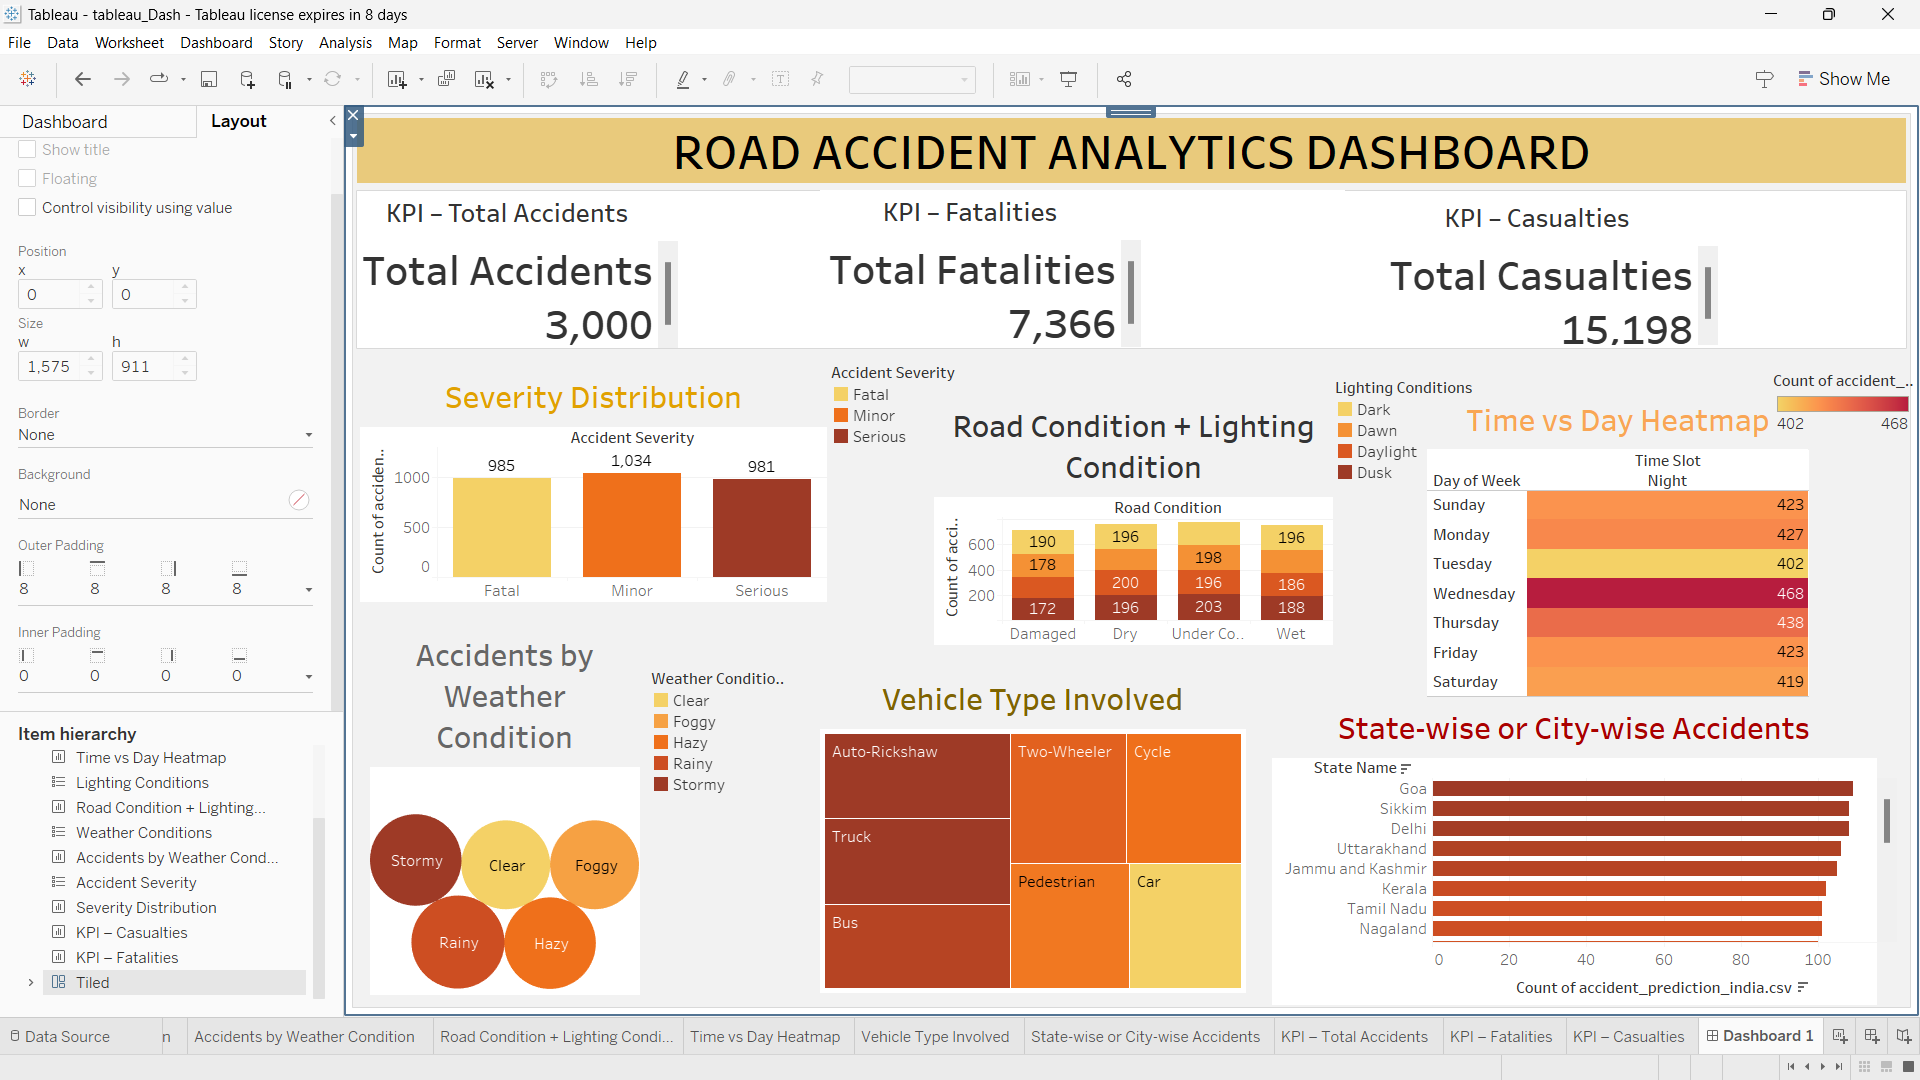

Layout of this report page (visuals, bound fields, positions):
{"tool":"tableau","page":{"name":"Dashboard 1","canvas":[1000,1000],"units":"permille","ordinal":0},"visuals":[{"type":"title","box":[5.7,9.9,988.6,80.1]},{"type":"worksheet","title":"KPI – Total Accidents","mark":"Text","box":[5.7,90,988.6,181.1]},{"type":"worksheet","title":"KPI – Fatalities","mark":"Automatic","box":[302.2,93.3,333.3,172.3]},{"type":"worksheet","title":"KPI – Casualties","mark":"Automatic","box":[655.9,99.9,333.3,163.6]},{"type":"legend","title":"Severity Distribution","param":"[federated.0otfhzh19rn5sc175olmn17yknsi].[none:Accident Severity:nk]","box":[309.2,282.1,88.9,93.3]},{"type":"legend","title":"Time vs Day Heatmap","param":"[federated.0otfhzh19rn5sc175olmn17yknsi].[__tableau_internal_object_id__].[cnt:a","box":[907.3,290.9,88.9,96.6]},{"type":"worksheet","title":"Severity Distribution","mark":"Automatic","rows":["accident_prediction_india.csv_D0539430751245F891A3C85DFFFD13"],"cols":["Accident Severity"],"box":[10.2,292,296.5,253.6]},{"type":"legend","title":"Road Condition + Lighting Condition","param":"[federated.0otfhzh19rn5sc175olmn17yknsi].[none:Lighting Conditions:nk]","box":[629.2,298.6,88.9,116.4]},{"type":"worksheet","title":"Time vs Day Heatmap","mark":"Square","rows":["Day of Week"],"cols":["Calculation_1374160845347581957"],"box":[687.6,317.2,242.5,332.6]},{"type":"worksheet","title":"Road Condition + Lighting Condition","mark":"Automatic","rows":["accident_prediction_india.csv_D0539430751245F891A3C85DFFFD13"],"cols":["Road Condition"],"box":[374.6,323.8,253.3,268.9]},{"type":"worksheet","title":"Accidents by Weather Condition","mark":"Circle","box":[16.5,575.2,356.2,401.8]},{"type":"legend","title":"Accidents by Weather Condition","param":"[federated.0otfhzh19rn5sc175olmn17yknsi].[none:Weather Conditions:nk]","box":[194.9,618,88.9,139.4]},{"type":"worksheet","title":"Vehicle Type Involved","mark":"Automatic","box":[302.2,623.5,360.6,351.3]},{"type":"worksheet","title":"State-wise or City-wise Accidents","mark":"Automatic","rows":["State Name"],"cols":["accident_prediction_india.csv_D0539430751245F891A3C85DFFFD13"],"box":[589.2,655.3,396.8,332.6]}]}

Visuals, with their boxes on the dashboard's canvas, which has no fixed pixel size, in thousandths of its width and height (x1, y1, x2, y2). These are canvas units, not pixel positions in the 1920x1080 screenshot, which may show the page scaled, cropped or inside an application window:
title: bbox=(6, 10, 994, 90)
"KPI – Total Accidents" worksheet (Text marks): bbox=(6, 90, 994, 271)
"KPI – Fatalities" worksheet: bbox=(302, 93, 636, 266)
"KPI – Casualties" worksheet: bbox=(656, 100, 989, 264)
"Severity Distribution" legend: bbox=(309, 282, 398, 375)
"Time vs Day Heatmap" legend: bbox=(907, 291, 996, 388)
"Severity Distribution" worksheet: bbox=(10, 292, 307, 546)
"Road Condition + Lighting Condition" legend: bbox=(629, 299, 718, 415)
"Time vs Day Heatmap" worksheet (Square marks): bbox=(688, 317, 930, 650)
"Road Condition + Lighting Condition" worksheet: bbox=(375, 324, 628, 593)
"Accidents by Weather Condition" worksheet (Circle marks): bbox=(16, 575, 373, 977)
"Accidents by Weather Condition" legend: bbox=(195, 618, 284, 757)
"Vehicle Type Involved" worksheet: bbox=(302, 624, 663, 975)
"State-wise or City-wise Accidents" worksheet: bbox=(589, 655, 986, 988)
